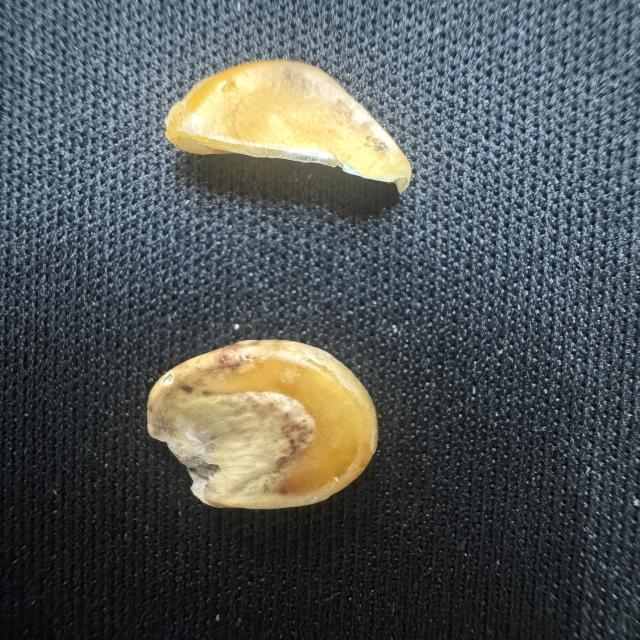Bad-Seed: (142, 334, 383, 513), (159, 55, 418, 205)
